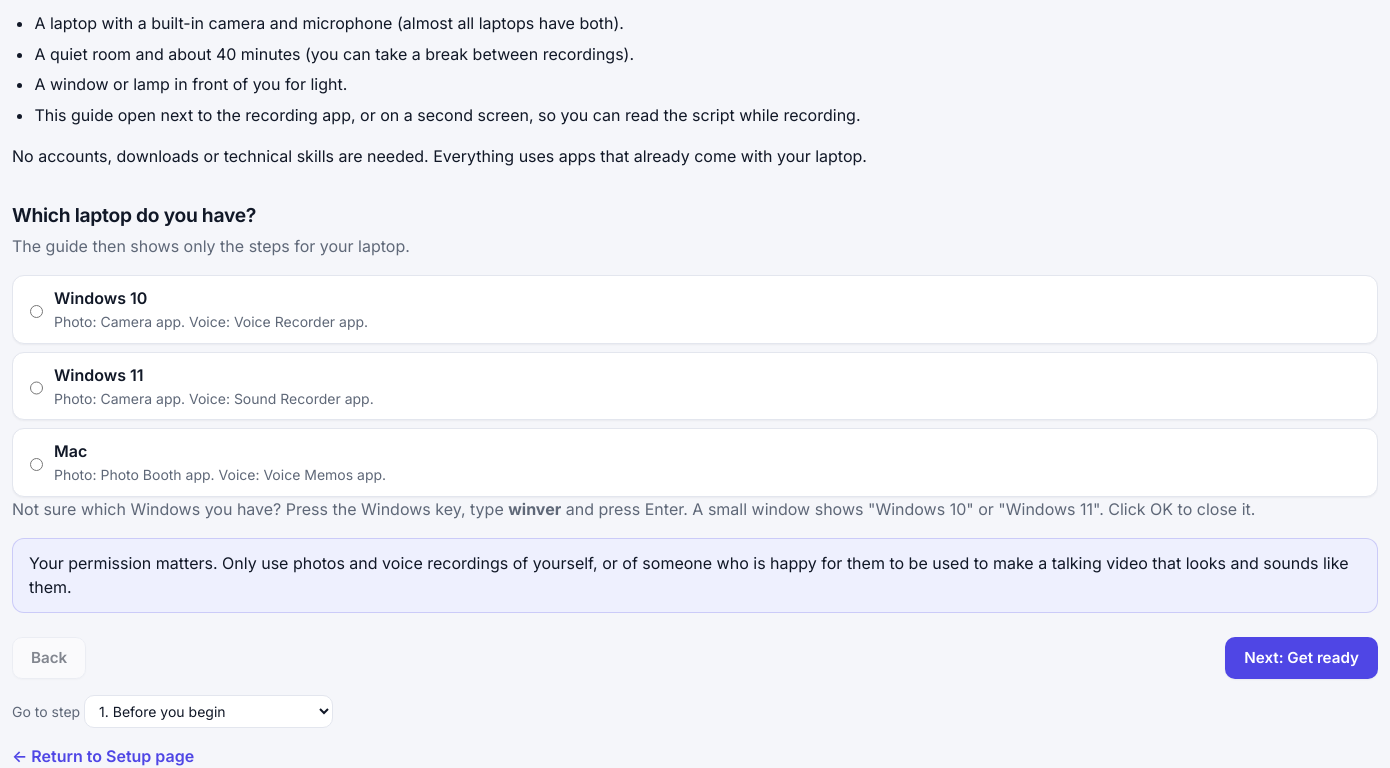
Test: picking a laptop shows only its steps, and is remembered
The width and height of the screenshot is (1390, 768).
(page scrolled)
Click the radio button labelled "Mac Photo: Photo Booth app. Voice: Voice Memos app." at point(36, 464), box [30,443,43,486]
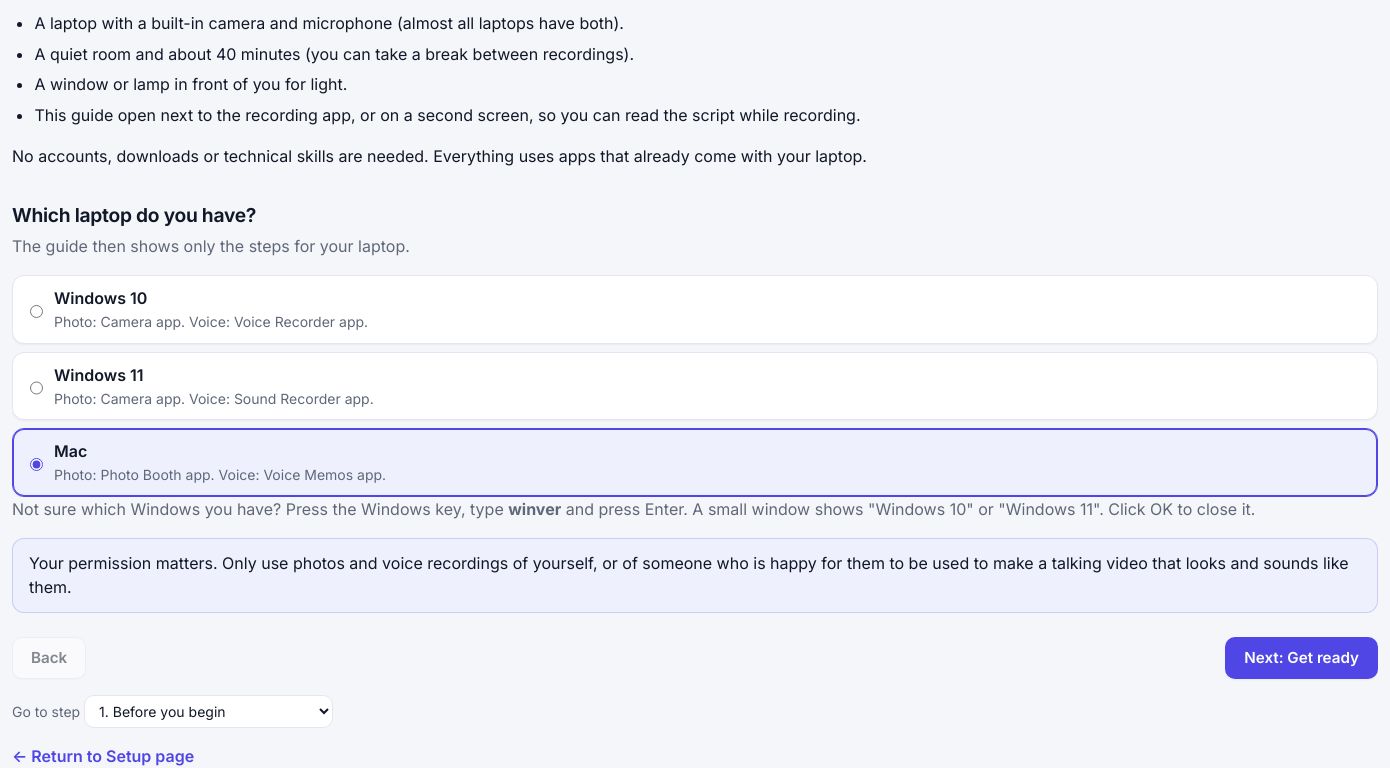
Select "4. How to take the photos" in the dropdown at point(209, 711), box [84,695,333,728]
(page scrolled)
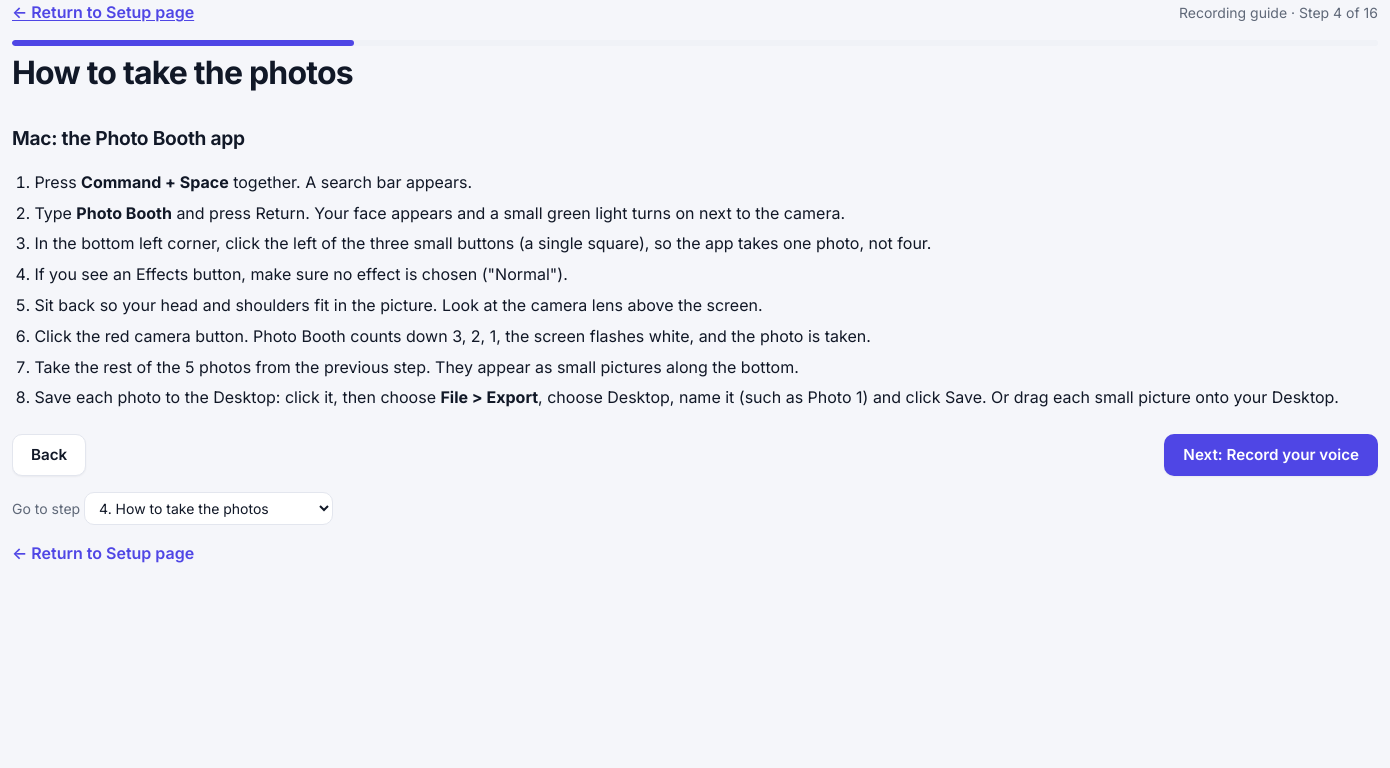
expect the heading "Mac: the Photo Booth app" is shown: met, box [12,126,245,150]
